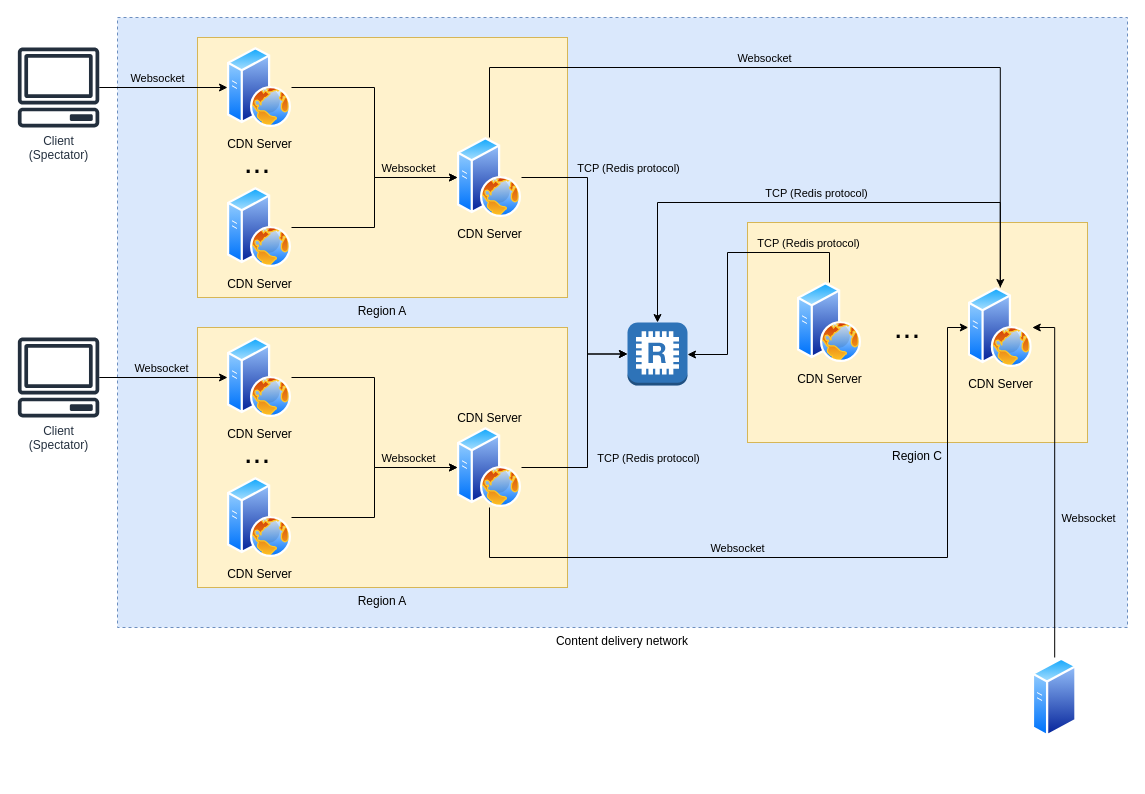
Some shapes in this 1145 by 794 pixel diagram are drawn without their labels. Each missing label, with the centre of its shape:
"HLS Encoder (Publisher)" goes at (1054,697).
"Redis (Publish registry)" goes at (657,354).
